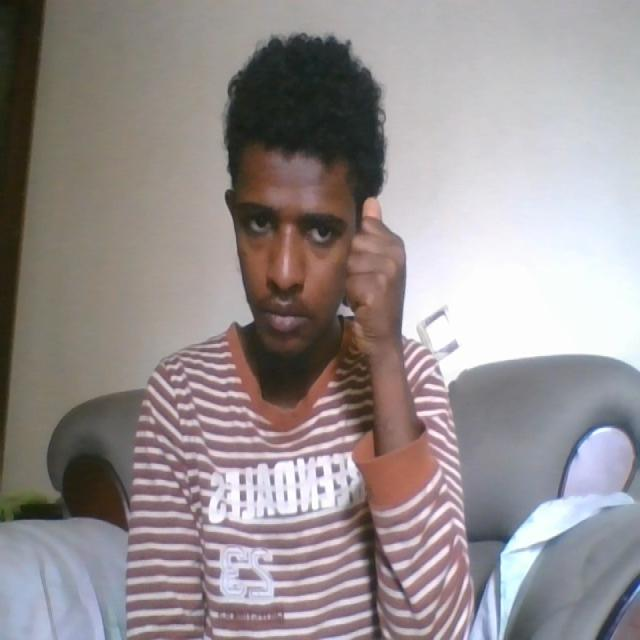agot: (324, 187, 412, 360)
